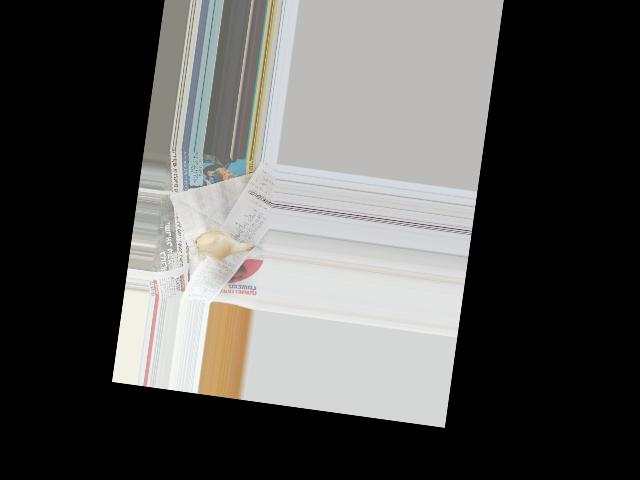onion: (192, 224, 239, 260)
